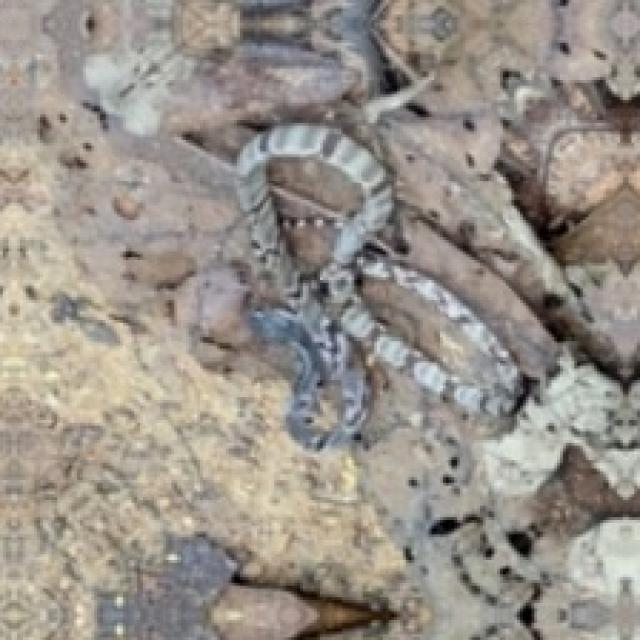dog-toothed cat snake: (237, 123, 520, 446)
